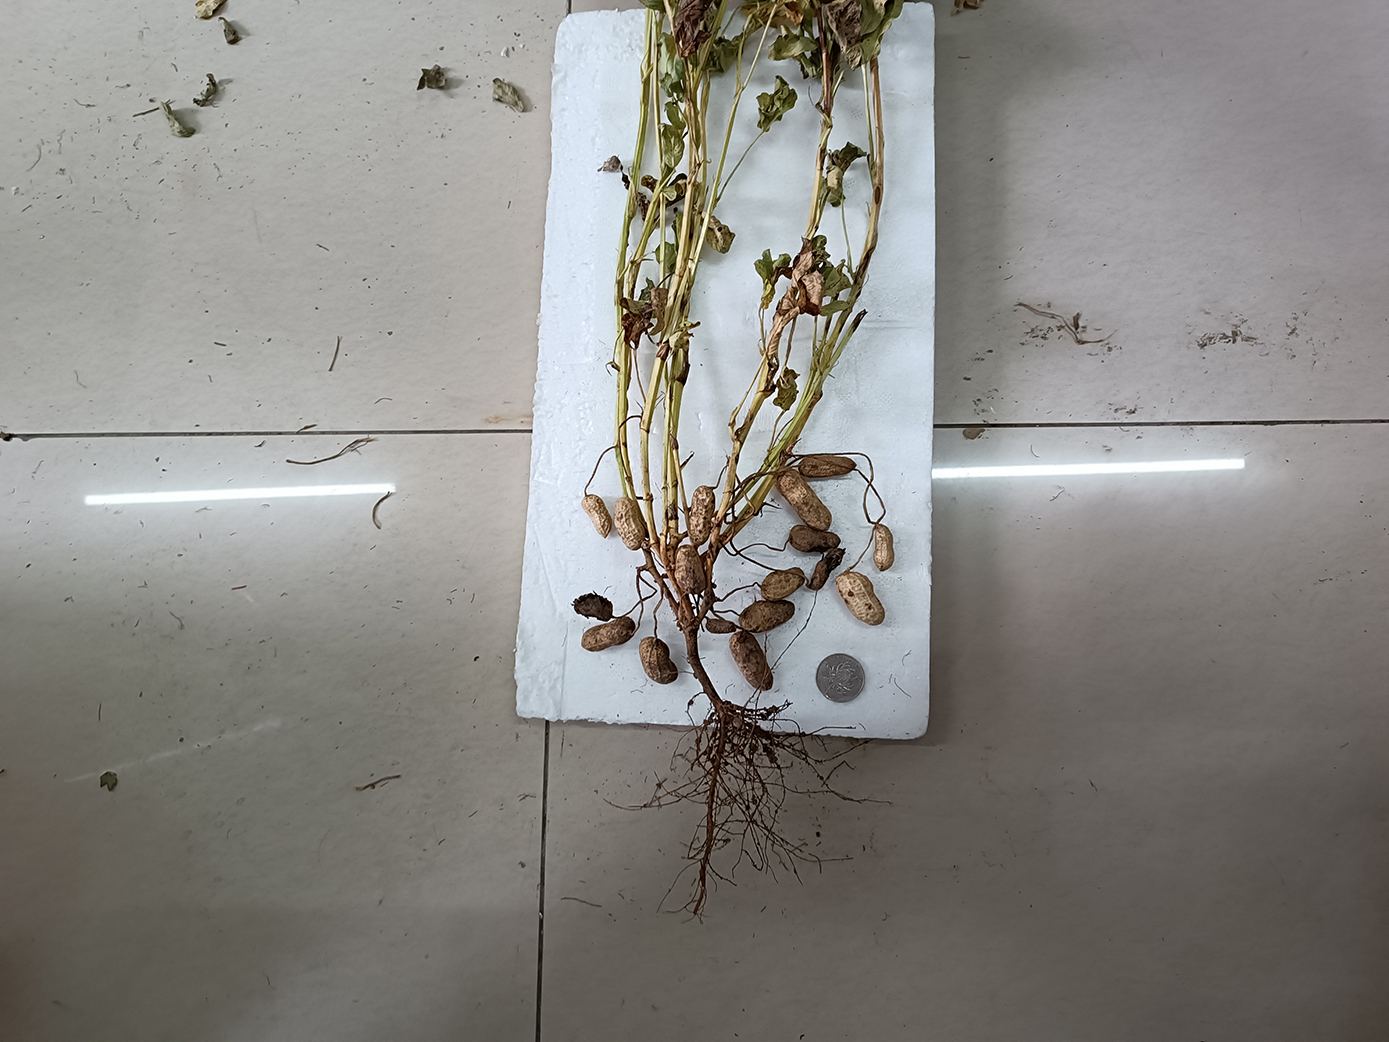h: (775, 468, 832, 531), (835, 572, 886, 626), (639, 636, 678, 685), (613, 497, 647, 549), (674, 544, 706, 595), (761, 567, 805, 600), (581, 494, 612, 540), (872, 524, 895, 572)
l: (729, 630, 773, 691), (580, 616, 635, 652), (739, 600, 795, 633), (688, 485, 716, 546), (810, 548, 846, 590), (788, 524, 841, 553), (571, 591, 613, 622), (798, 458, 857, 477), (706, 618, 736, 634)
